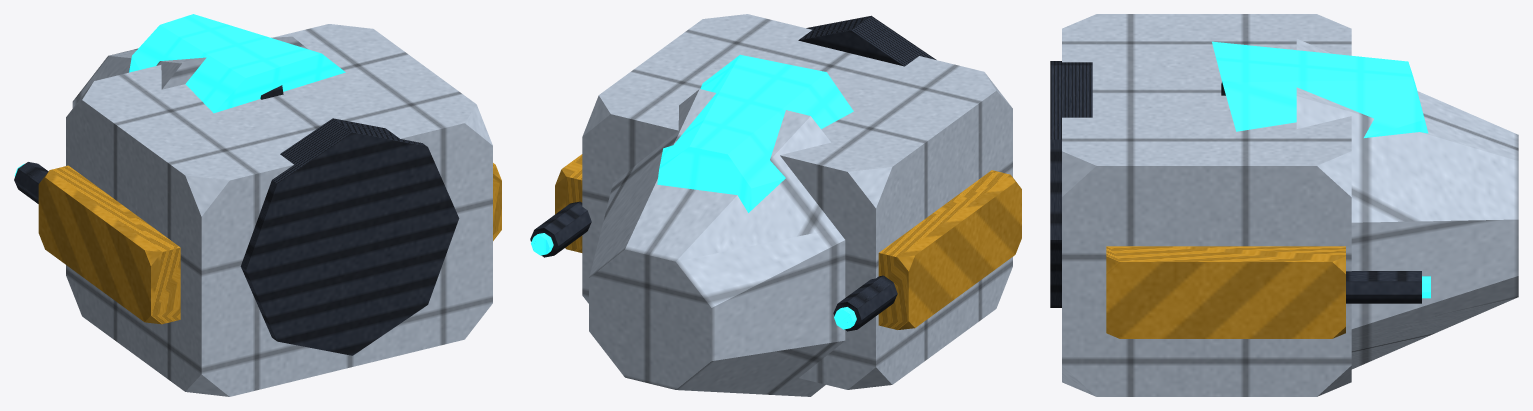
File: mod_cockpit_mk1.glb
The picture shows the model from 3 angles, left to right: view 1: azimuth 30°, elevation 25°; view 2: azimuth 150°, elevation 25°; view 3: azimuth 270°, elevation 25°; orthographic projection. The views are drawn at different scales.
Visible parts, largest first — view 1: mod_cockpit_mk1; view 2: mod_cockpit_mk1; view 3: mod_cockpit_mk1.
Part boxes in pixels (<box>): mod_cockpit_mk1: <box>14,14,501,396</box>; mod_cockpit_mk1: <box>530,14,1021,396</box>; mod_cockpit_mk1: <box>1050,14,1518,396</box>.
Bounding box in the file's own units: 2.24 × 1.76 × 2.42.
Materials: 1 (1 with a texture image).
